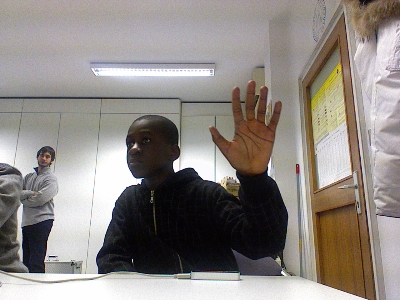布: (208, 79, 283, 174)
